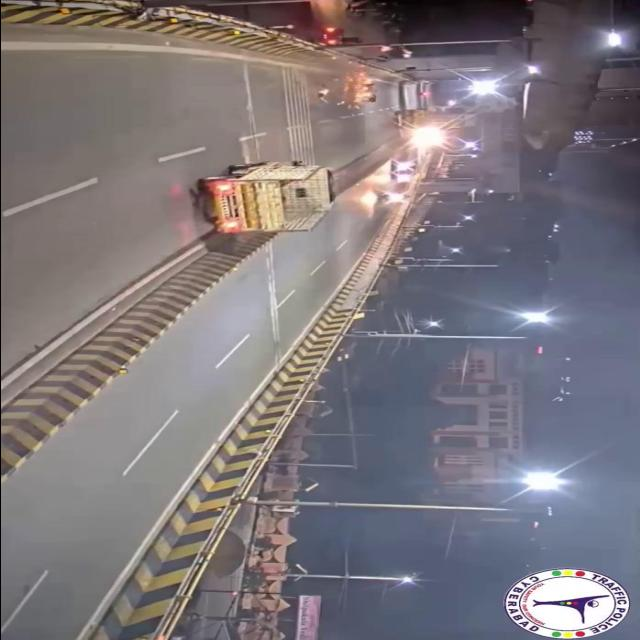accident: (313, 68, 377, 112)
